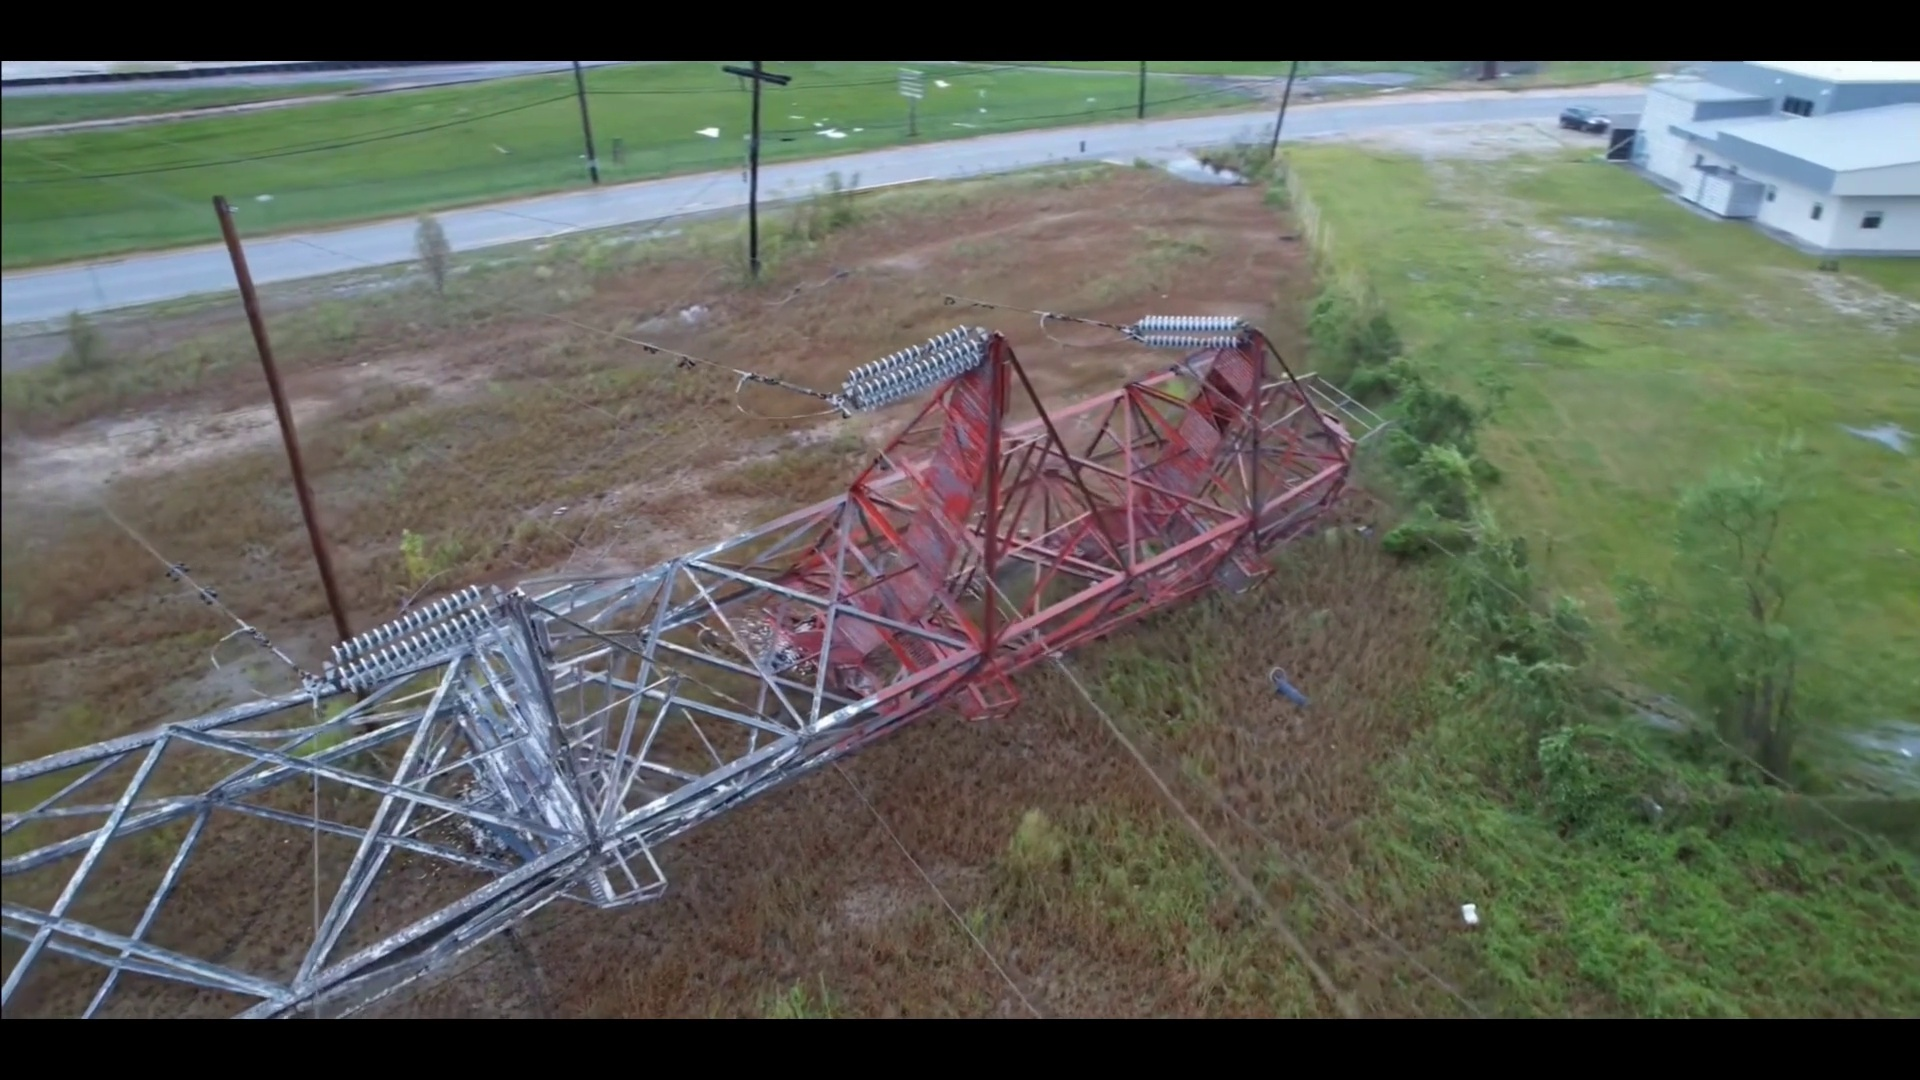tower_down: (79, 303, 1373, 1018)
